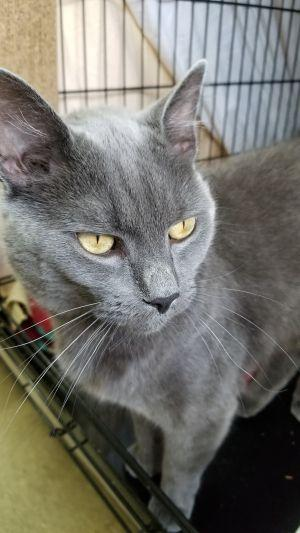rblue: (1, 51, 251, 365)
